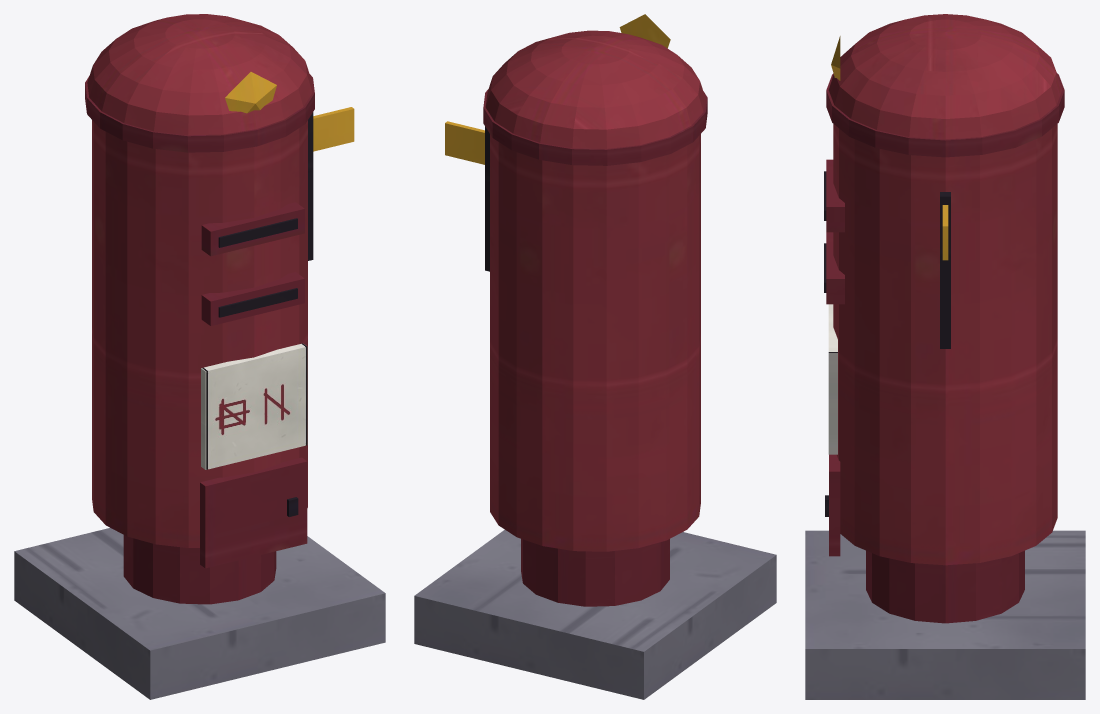
The model's file is correio.glb.
The picture shows the model from 3 angles, left to right: view 1: azimuth 30°, elevation 25°; view 2: azimuth 150°, elevation 25°; view 3: azimuth 270°, elevation 25°; orthographic projection. The views are drawn at different scales.
Parts seen in each view (by area): view 1: correio; view 2: correio; view 3: correio.
Part boxes in pixels (box(x1,y1,x2,y2)): correio: box(14, 14, 385, 699); correio: box(414, 14, 776, 699); correio: box(805, 14, 1085, 699).
Size of the model in its own units: 0.69 by 1.44 by 0.6.
1 material, 1 textured.
